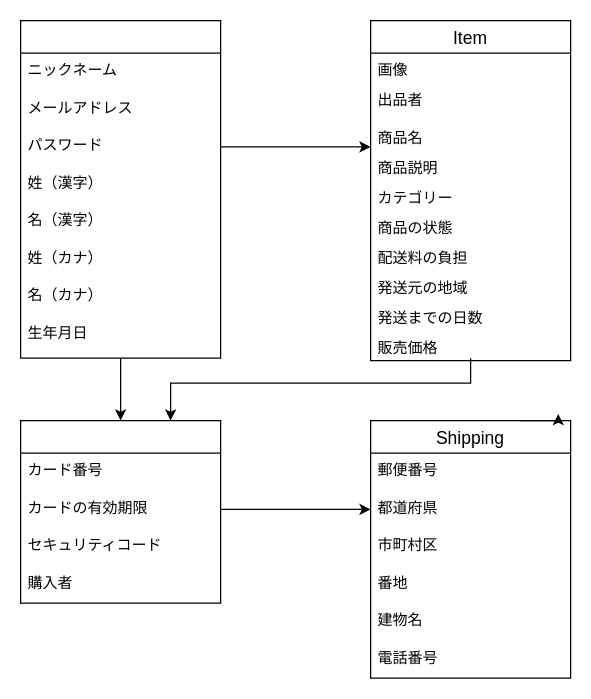
This 591x699 diagram has some shape labels left out. Each missing label, with the box of its shape:
Buyer: (19, 419, 221, 603)
User: (19, 19, 221, 358)
